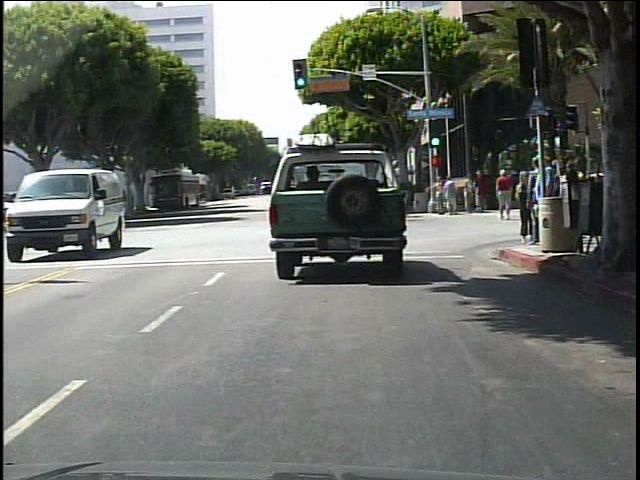person: (531, 154, 556, 256), (528, 154, 544, 248), (513, 170, 532, 245), (494, 168, 515, 221), (520, 177, 538, 225), (540, 171, 555, 219), (443, 177, 458, 218), (476, 169, 489, 212), (464, 175, 476, 214), (434, 177, 444, 216), (129, 190, 136, 215)
